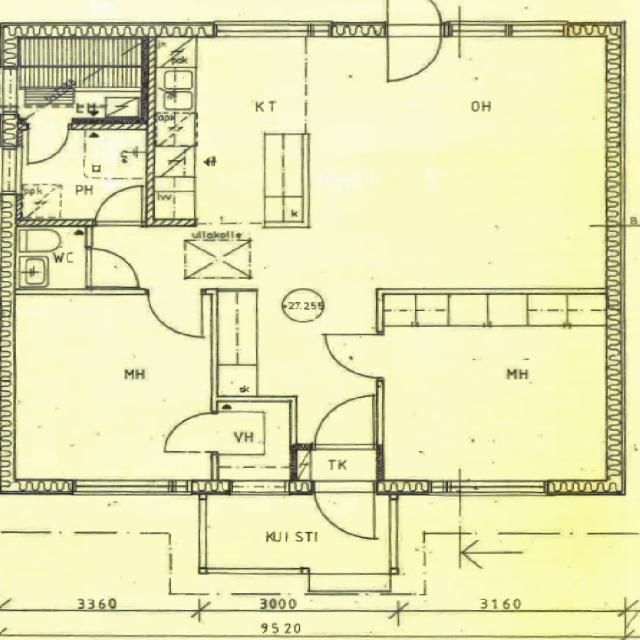door: (314, 480, 374, 542), (63, 107, 124, 158), (388, 23, 441, 80), (322, 335, 384, 378), (316, 402, 370, 451), (150, 288, 202, 335), (161, 414, 218, 453), (388, 0, 441, 38), (86, 250, 139, 286), (96, 184, 140, 227)
